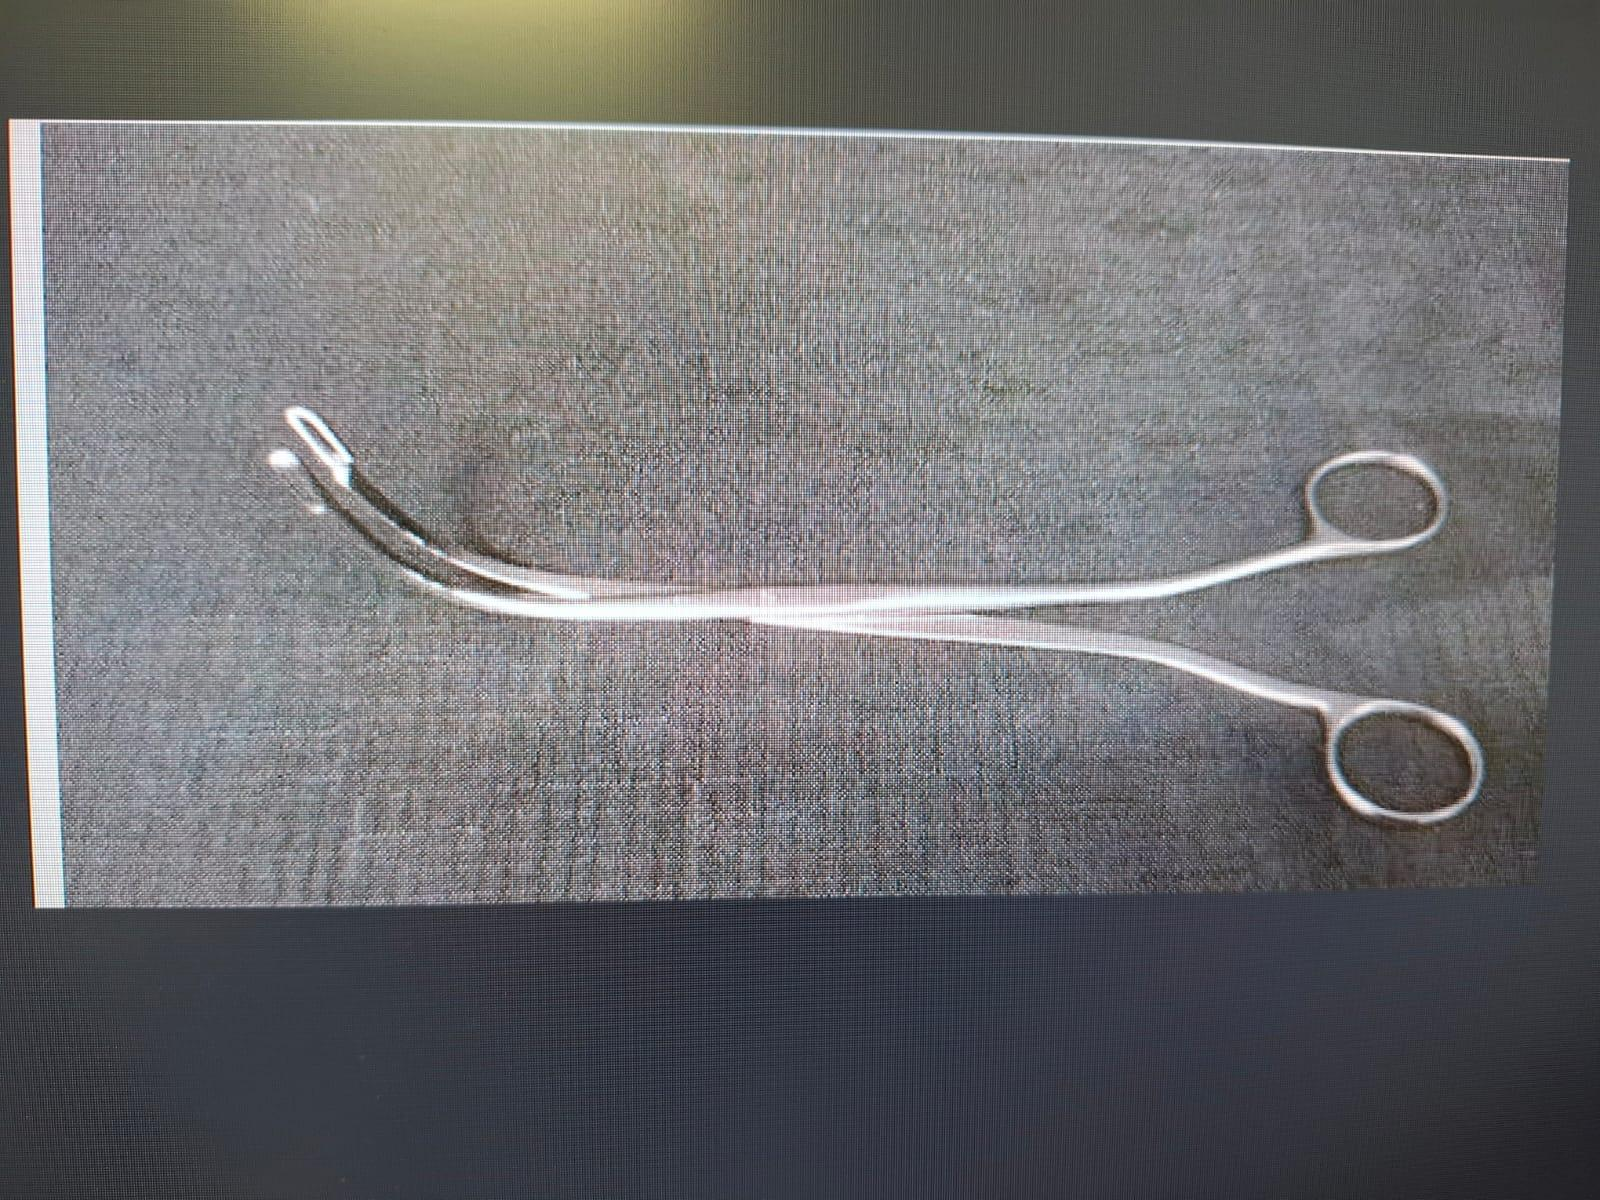Randall Forceps: (260, 355, 1506, 832)
